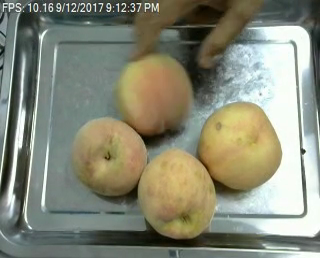Peach: (198, 101, 281, 191), (138, 147, 217, 240), (114, 53, 192, 135), (71, 117, 147, 197)
